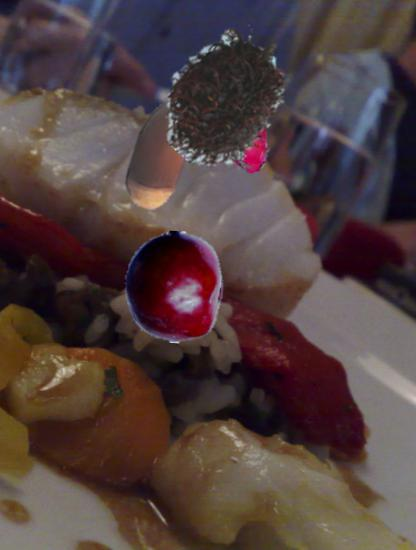Hazelnut: (98, 88, 224, 214)
Pitahaya: (204, 95, 283, 174)
Plum: (118, 231, 230, 343)
Rambutan: (152, 24, 298, 170)
